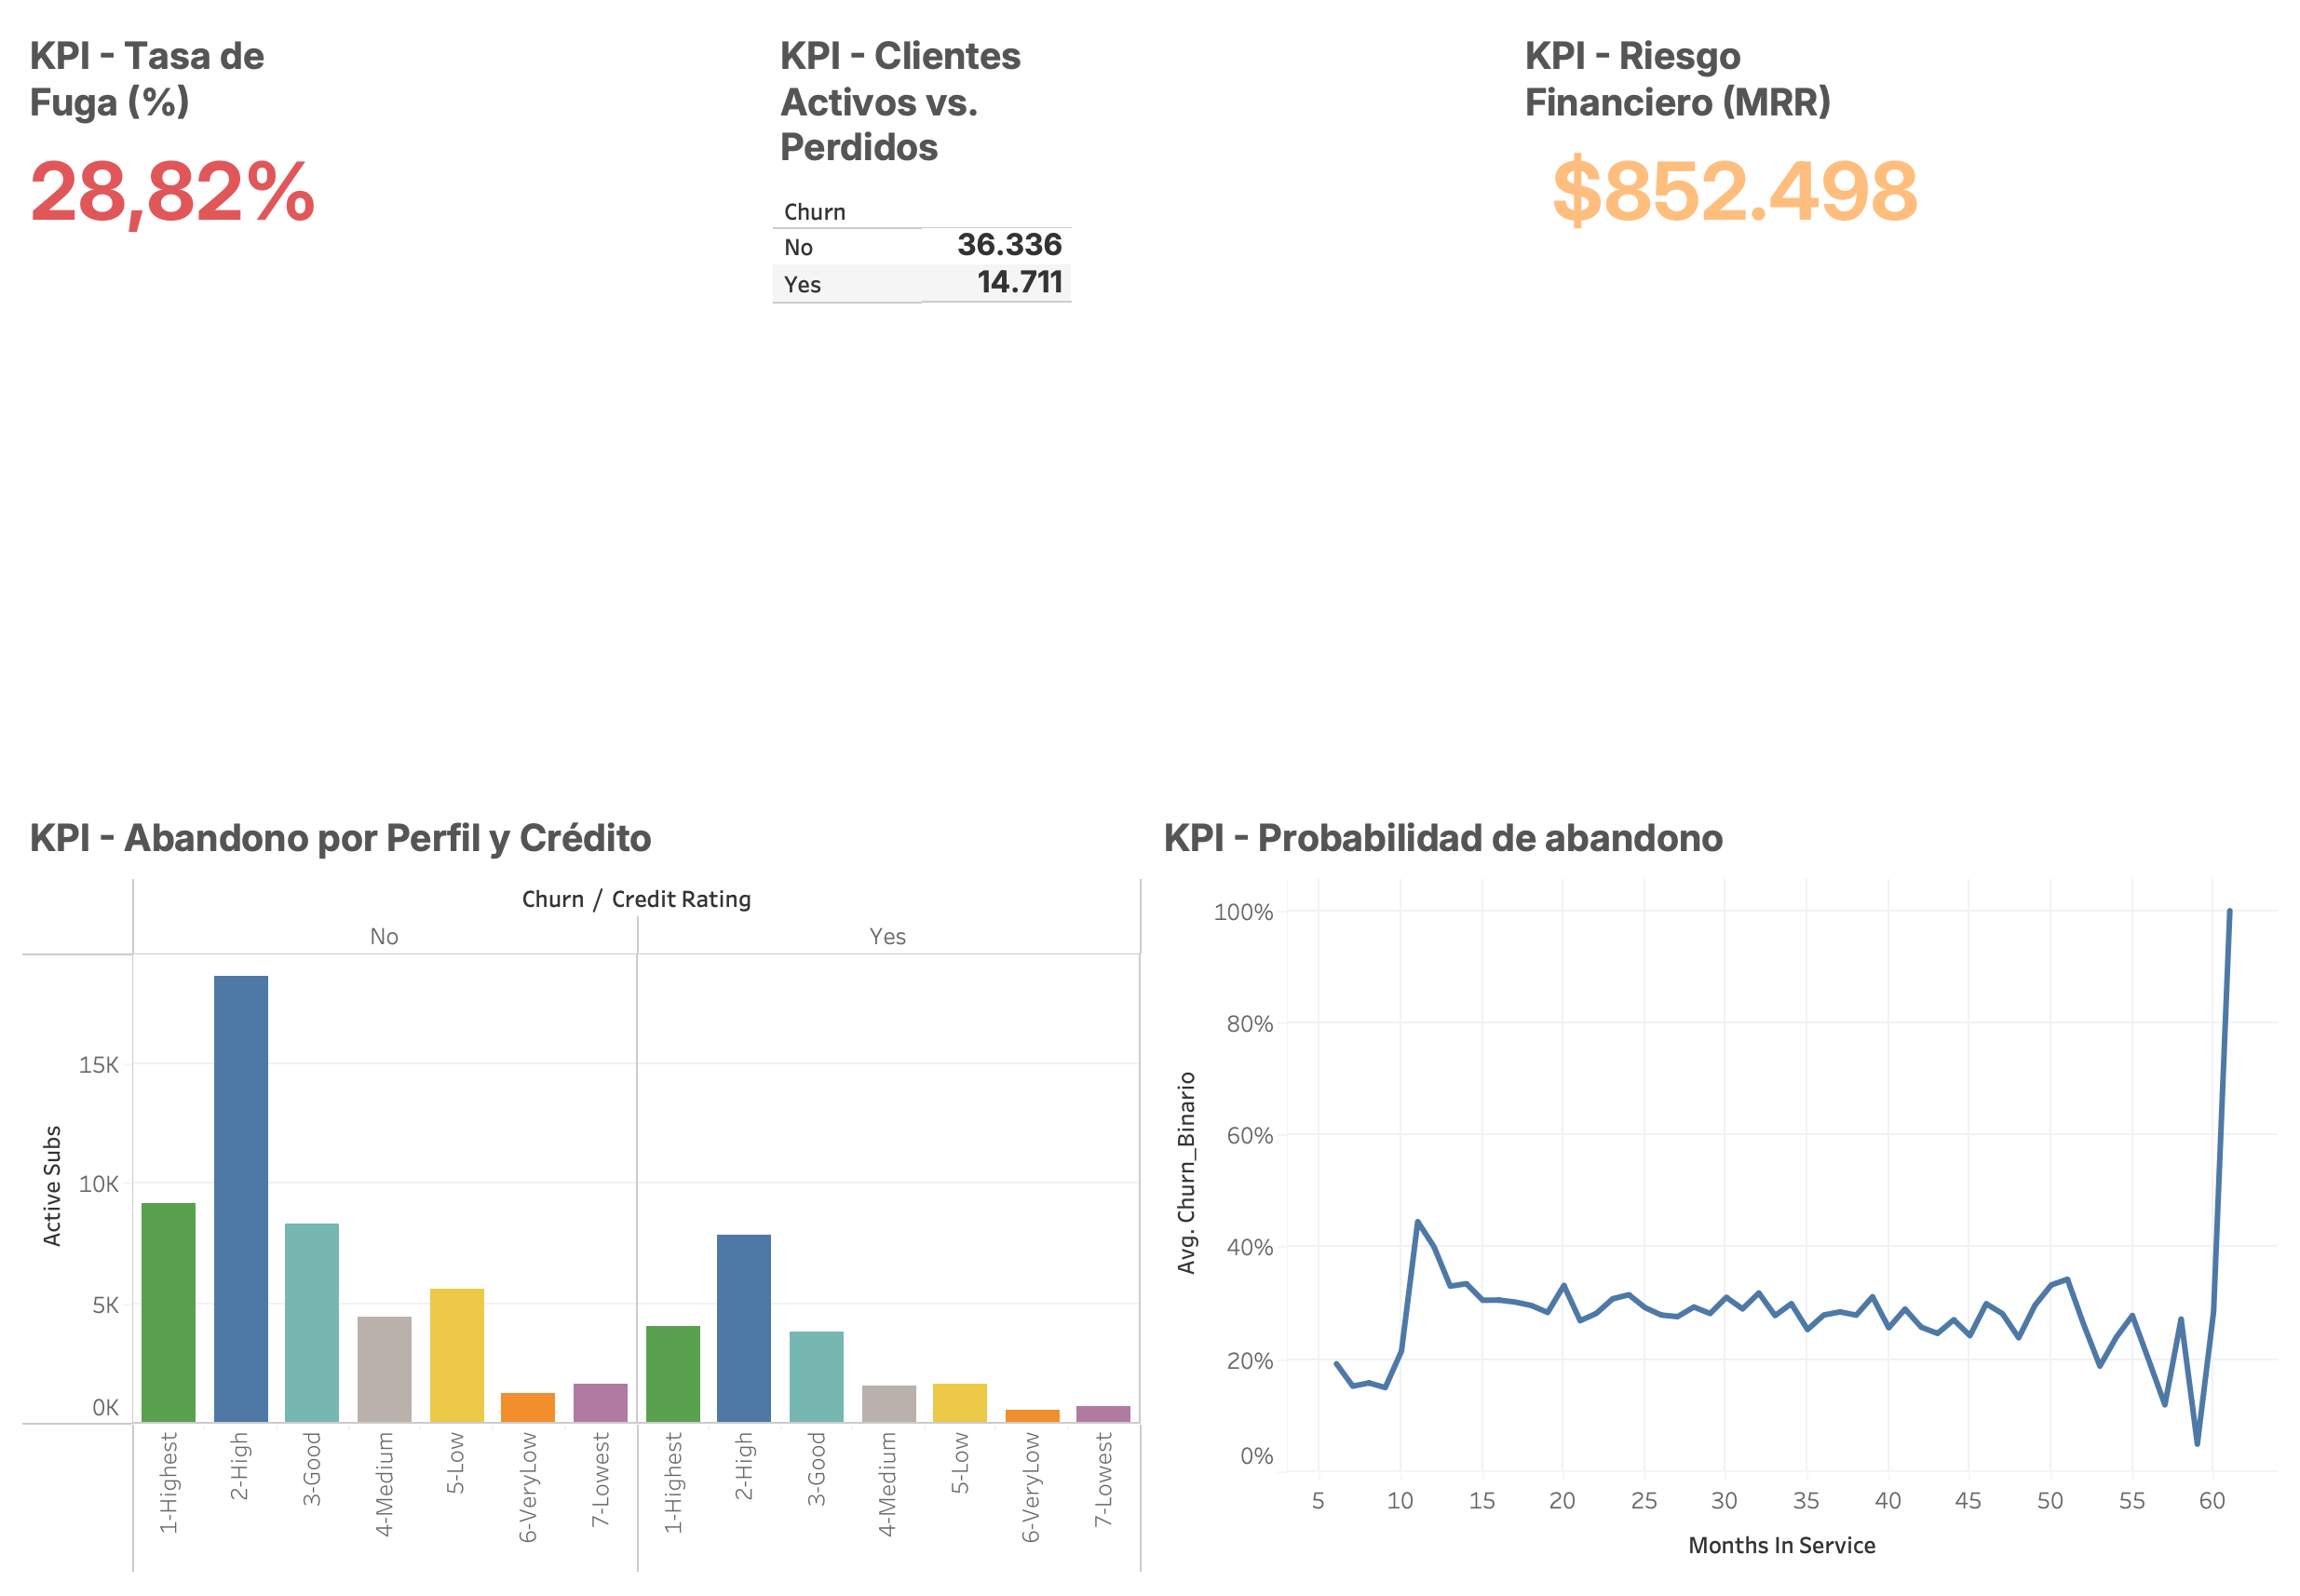

Layout of this report page (visuals, bound fields, positions):
{"tool":"tableau","page":{"name":"Dashboard - Retención y Fuga","canvas":[1000,1000],"units":"permille","ordinal":0},"visuals":[{"type":"worksheet","title":"KPI - Tasa de Fuga (%)","mark":"Automatic","box":[6.5,9.3,326.3,490.6]},{"type":"worksheet","title":"KPI - Clientes Activos vs. Perdidos","mark":"Automatic","rows":["Churn"],"box":[332.8,9.3,323.9,490.6]},{"type":"worksheet","title":"KPI - Riesgo Financiero (MRR)","mark":"Automatic","box":[656.7,9.3,336.8,490.6]},{"type":"worksheet","title":"KPI - Abandono por Perfil y Crédito","mark":"Automatic","rows":["ActiveSubs"],"cols":["Churn","CreditRating"],"box":[6.5,500,493.5,490.7]},{"type":"worksheet","title":"KPI - Probabilidad de abandono","mark":"Automatic","rows":["Calculation_4666045977198595"],"cols":["MonthsInService"],"box":[500,500,493.5,490.7]}]}

Visuals, with their boxes on the dashboard's canvas, which has no fixed pixel size, in thousandths of its width and height (x1, y1, x2, y2). These are canvas units, not pixel positions in the 2300x1596 screenshot, which may show the page scaled, cropped or inside an application window:
"KPI - Tasa de Fuga (%)" worksheet: 6 9 333 500
"KPI - Clientes Activos vs. Perdidos" worksheet: 333 9 657 500
"KPI - Riesgo Financiero (MRR)" worksheet: 657 9 994 500
"KPI - Abandono por Perfil y Crédito" worksheet: 6 500 500 991
"KPI - Probabilidad de abandono" worksheet: 500 500 994 991
